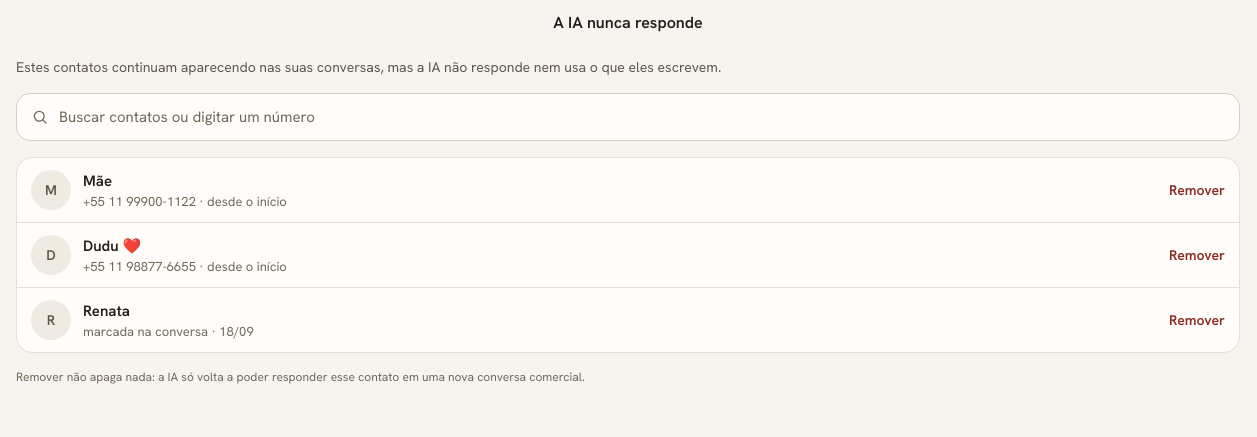
Test: Goal140 Remover › a falha mantém a linha e mostra o alerta
The width and height of the screenshot is (1257, 437).
Click the button with aria-label "Remover Mãe".
click(1197, 190)  # box left=1161, top=170, right=1233, bottom=210
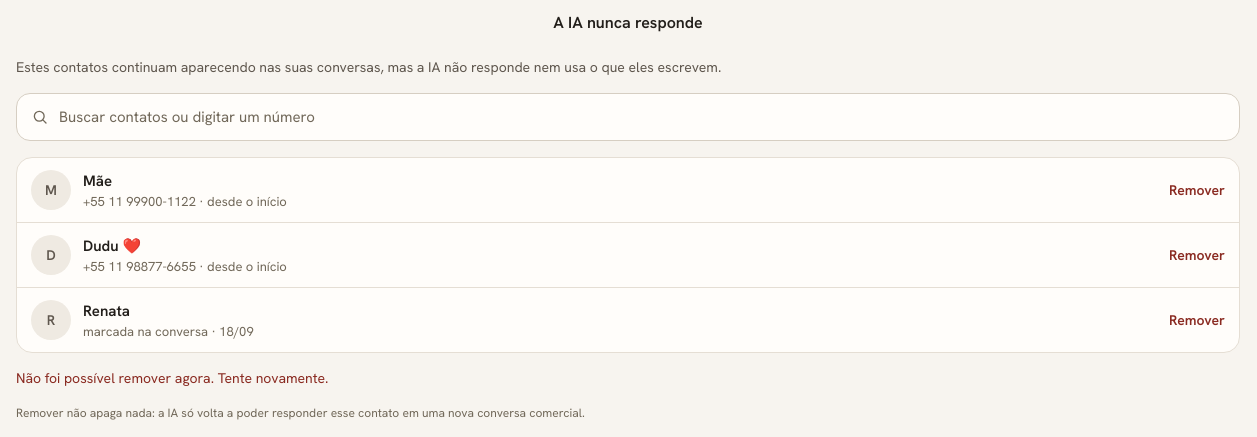
Expected: the text "Mãe" is shown, left=83, top=171, right=112, bottom=191
Expected: the message reads "Não foi possível remover agora. Tente novamente.", left=16, top=369, right=328, bottom=387
